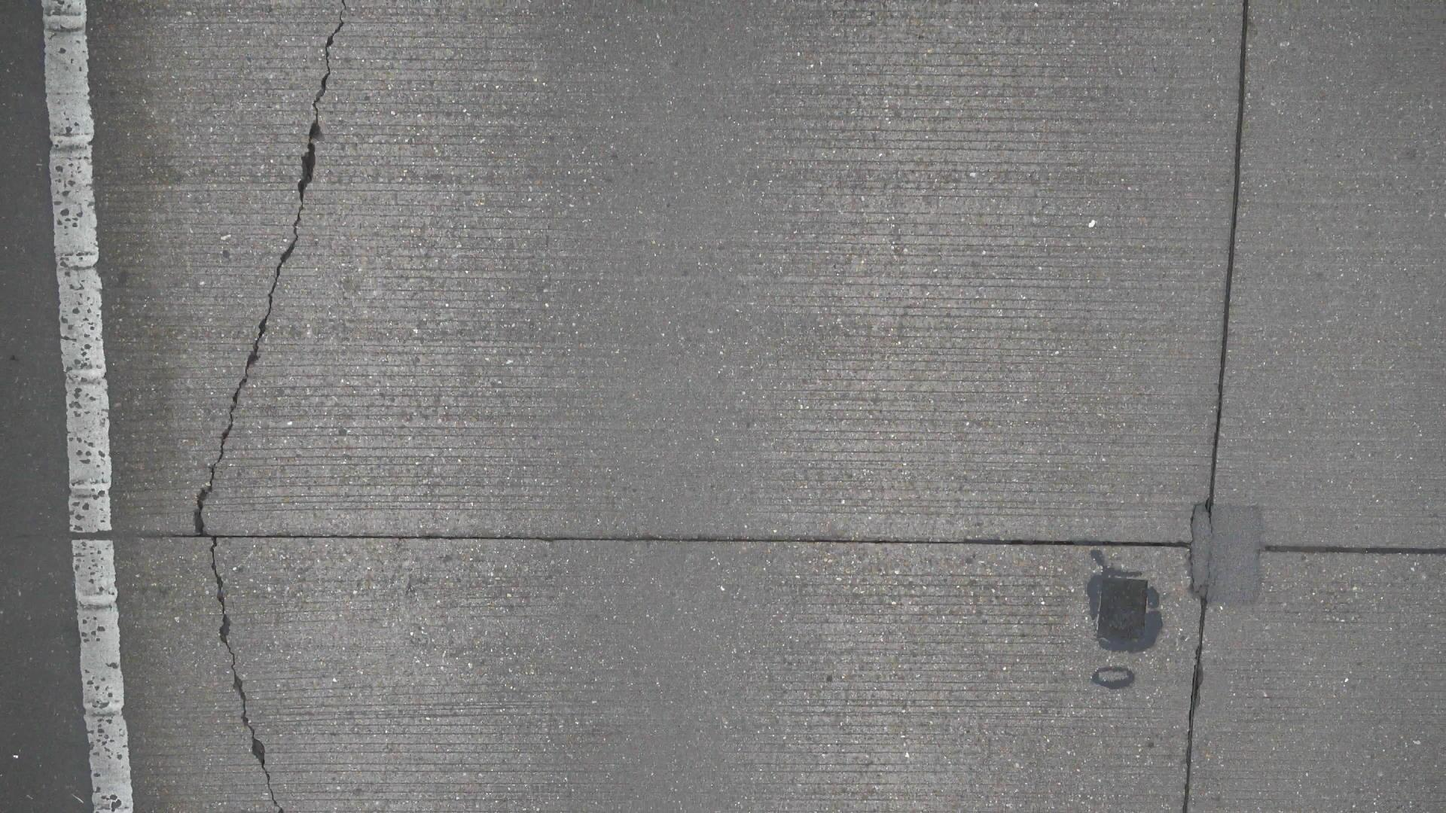GRIETA: (193, 12, 344, 532), (1202, 0, 1249, 504), (210, 537, 285, 812), (1181, 598, 1209, 812), (171, 533, 762, 543), (764, 537, 1187, 548), (1262, 544, 1445, 555)
PARCHE: (1192, 502, 1261, 604), (1098, 577, 1147, 641)
